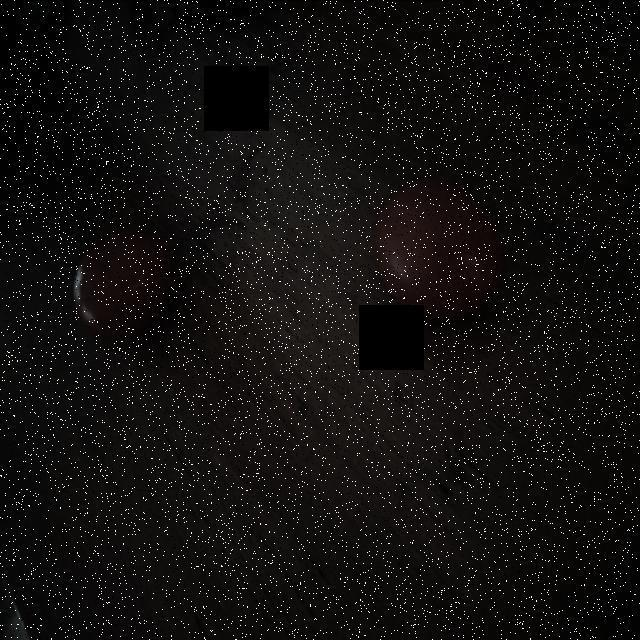egg: (366, 165, 508, 329), (72, 220, 178, 351)
